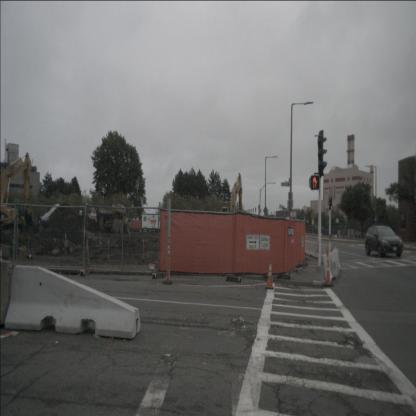barrier: (4, 266, 141, 340), (0, 259, 16, 328), (320, 252, 339, 283), (332, 248, 341, 276), (322, 244, 334, 264), (308, 240, 317, 258), (315, 242, 323, 260), (302, 239, 310, 256)
cone: (324, 242, 334, 287), (164, 236, 172, 285), (266, 260, 274, 289)
